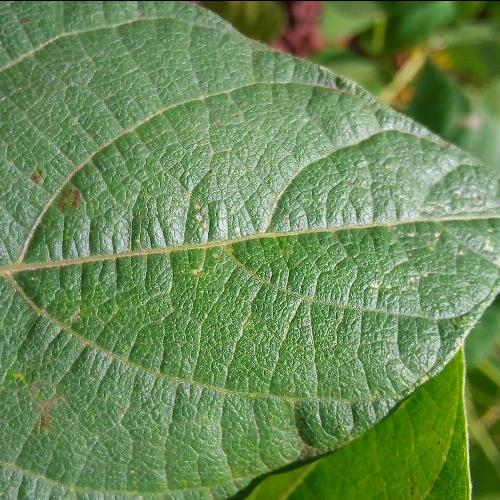hawar: (26, 54, 397, 473)
